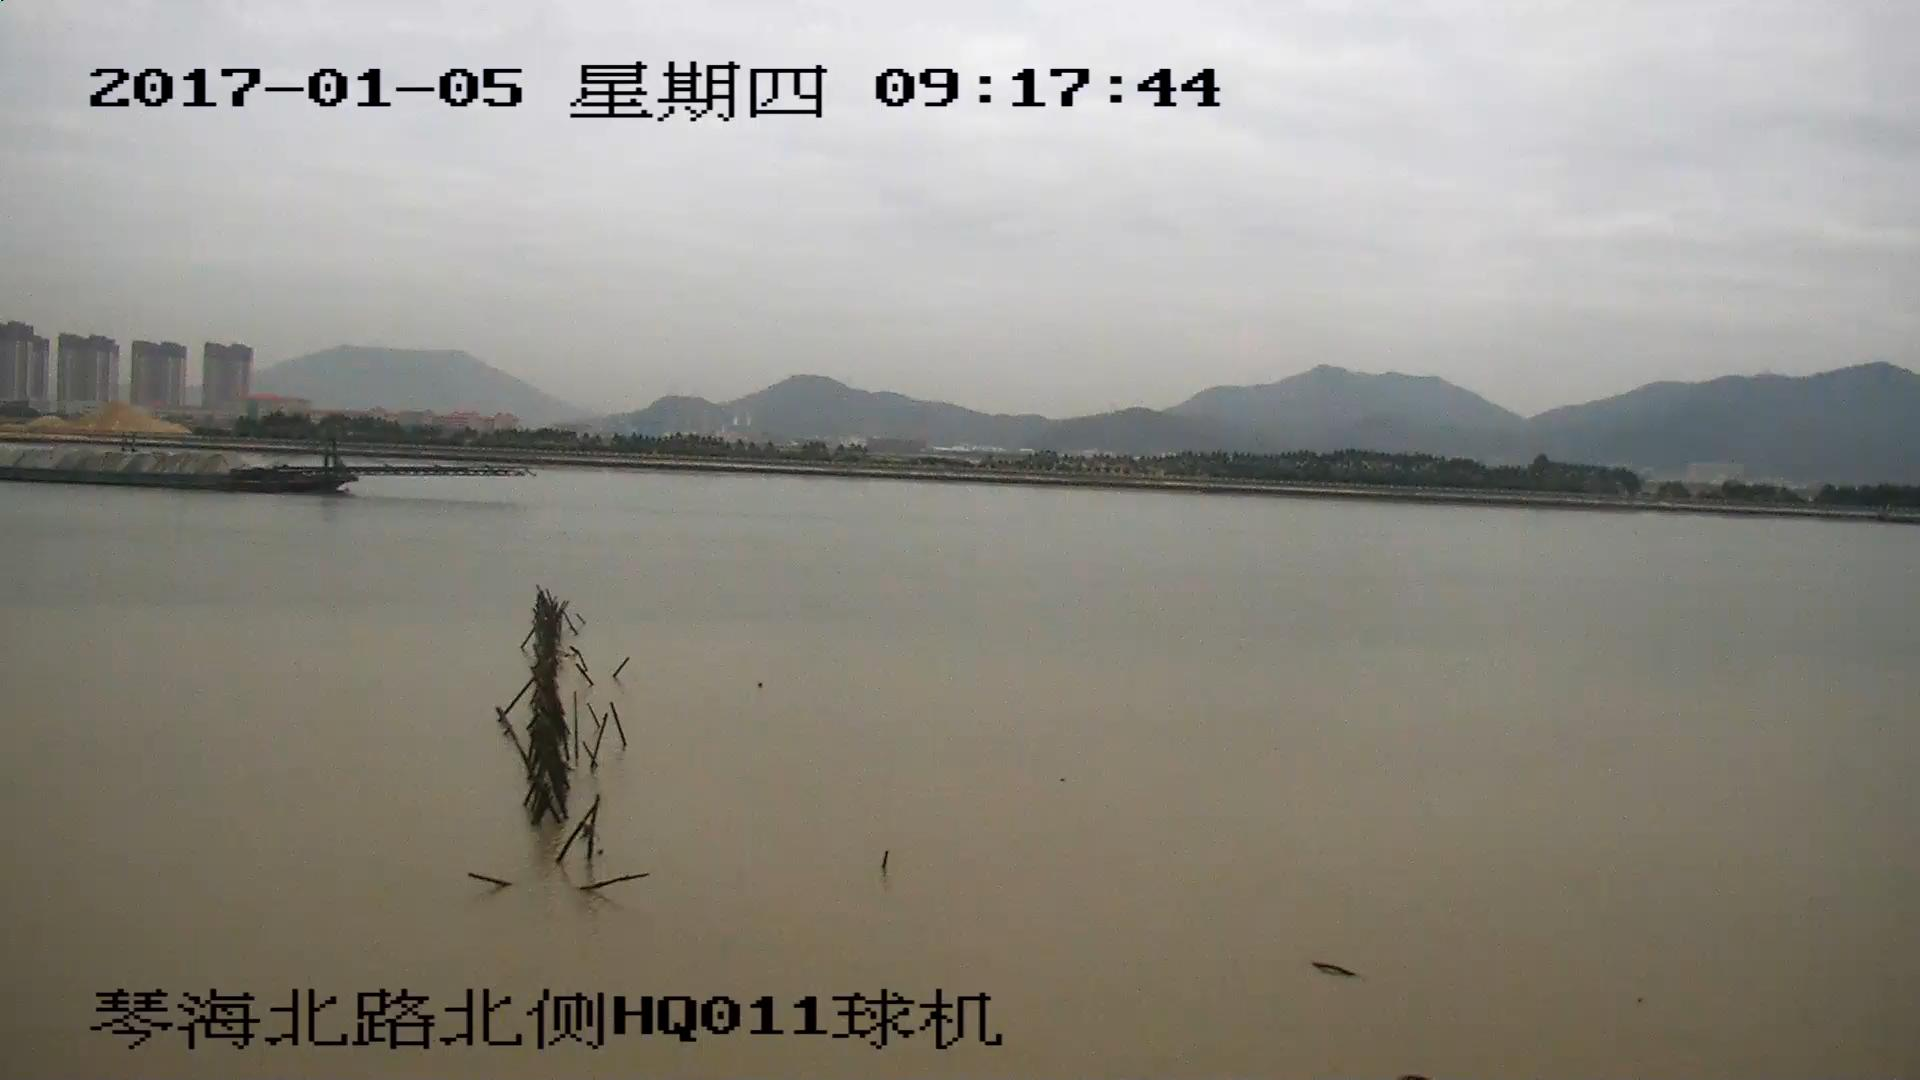ore carrier: (1, 440, 518, 496)
